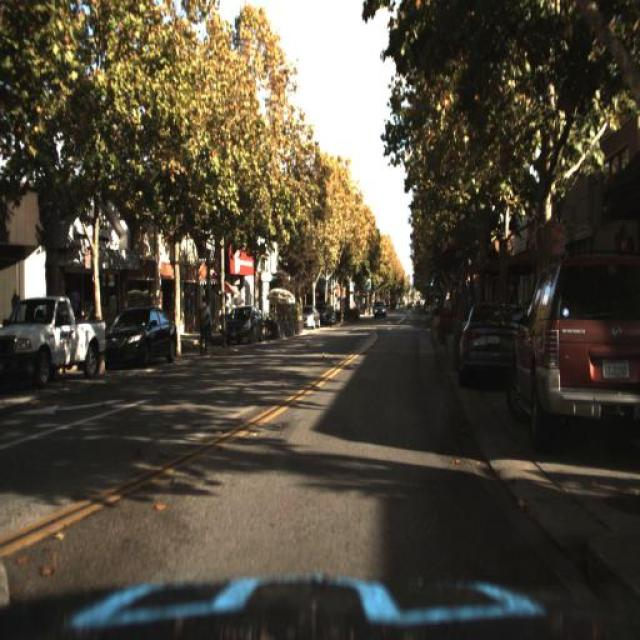car: (505, 246, 639, 449), (1, 283, 108, 382), (448, 300, 533, 386), (102, 300, 178, 371), (222, 301, 268, 348), (298, 302, 322, 333), (300, 302, 320, 336), (372, 296, 389, 326)
trafficLight: (194, 290, 210, 360)
